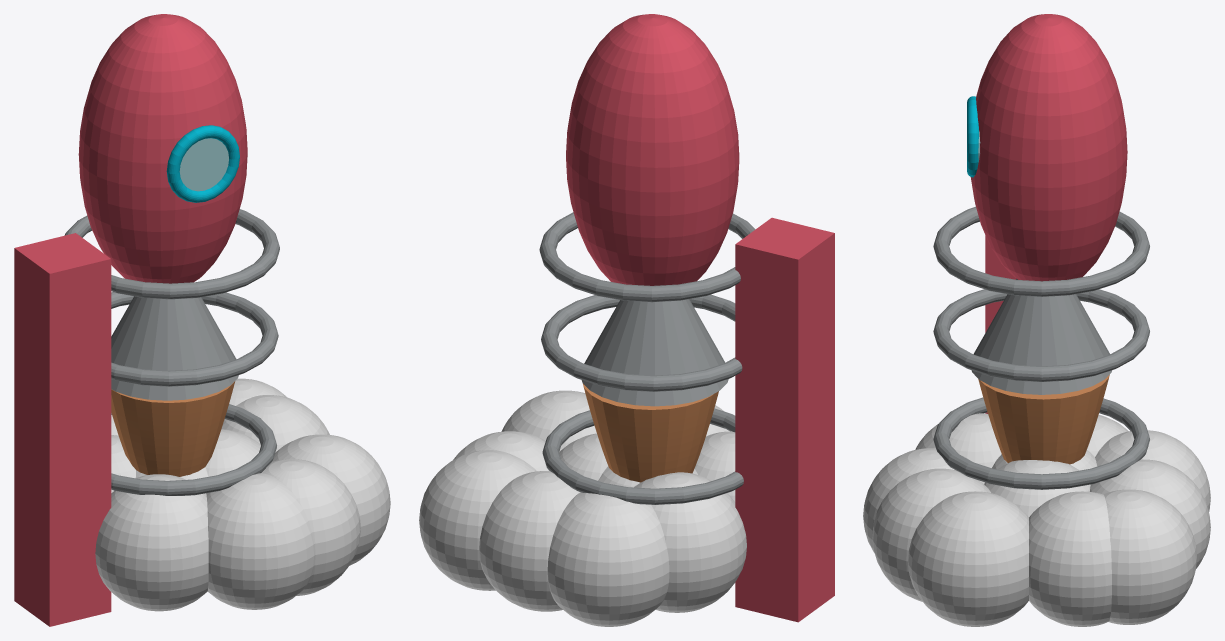
File: Cohete.glb
3 renders of one model, left to right at view 1: azimuth 30°, elevation 25°; view 2: azimuth 150°, elevation 25°; view 3: azimuth 270°, elevation 25°, orthographic. The views are drawn at different scales.
Visible parts, largest first — view 1: Mesh_Mesh_head_geo.001_lambert2SG.001; view 2: Mesh_Mesh_head_geo.001_lambert2SG.001; view 3: Mesh_Mesh_head_geo.001_lambert2SG.001.
Part boxes in pixels (x1,y1,x2,y2): Mesh_Mesh_head_geo.001_lambert2SG.001: (14,14,390,626); Mesh_Mesh_head_geo.001_lambert2SG.001: (419,14,834,626); Mesh_Mesh_head_geo.001_lambert2SG.001: (863,14,1210,626).
Bounding box in the file's own units: 244 × 393 × 228.
